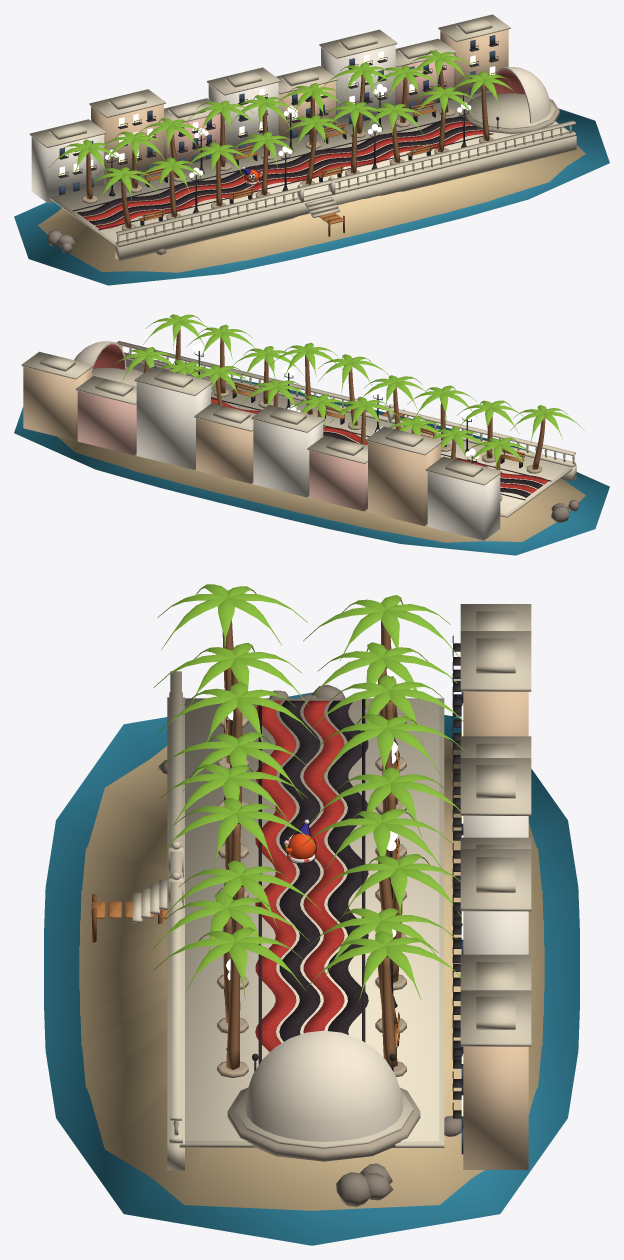
The model's file is explanada.glb.
3 views of the same model, one above another, from view 1: azimuth 30°, elevation 25°; view 2: azimuth 150°, elevation 25°; view 3: azimuth 270°, elevation 25° (orthographic). The views are drawn at different scales.
Visible parts, largest first — view 1: explanada_isla; view 2: explanada_isla; view 3: explanada_isla.
Part boxes in pixels (x1,y1,x2,y2): explanada_isla: (14,14,609,285); explanada_isla: (14,314,609,555); explanada_isla: (44,584,579,1245).
Size of the model in its own units: 38.08 by 7.59 by 15.6.
